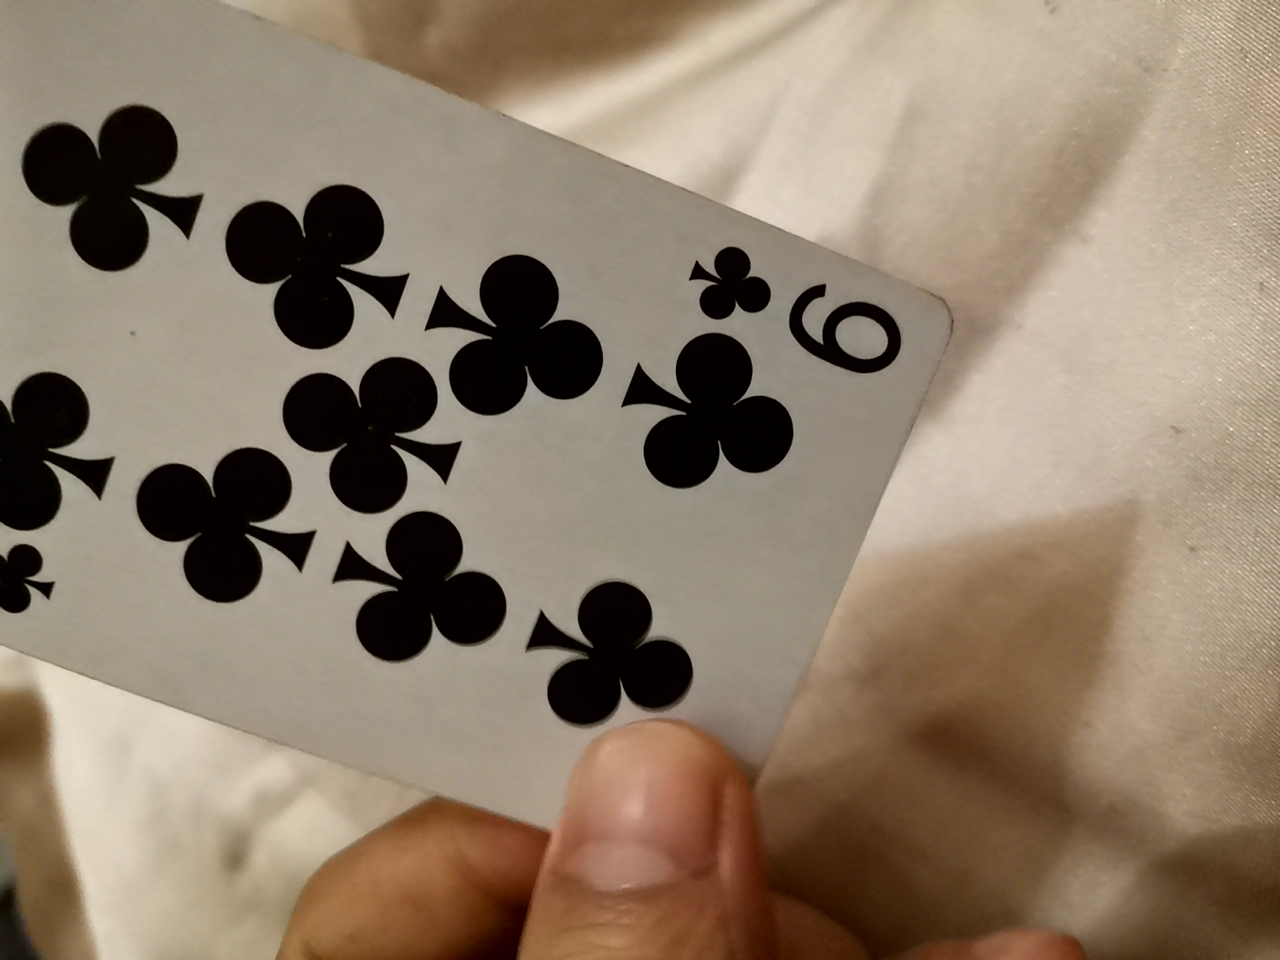mh 9: (0, 17, 981, 864)
